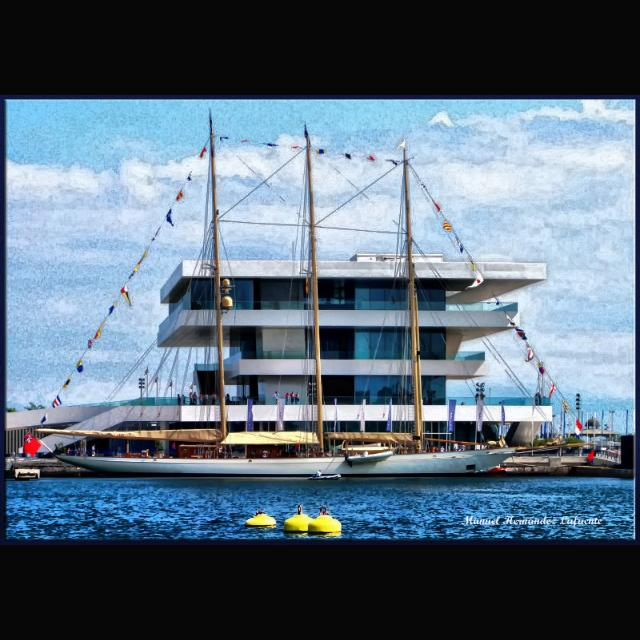buoy: (308, 505, 342, 537), (284, 505, 316, 533), (245, 509, 277, 528)
sailing_vessel: (36, 109, 596, 479)
